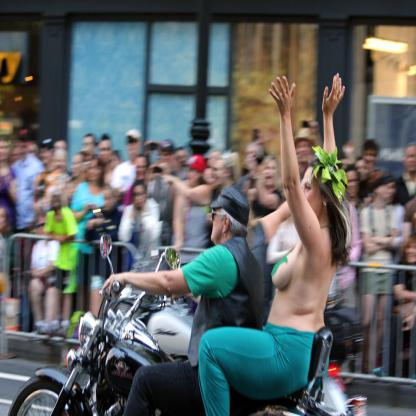face: (302, 167, 323, 220), (212, 207, 228, 243), (298, 139, 311, 165), (347, 173, 359, 198), (265, 163, 278, 186), (213, 163, 226, 185), (88, 161, 102, 180), (19, 140, 32, 160), (99, 142, 111, 163), (72, 157, 84, 178), (134, 189, 146, 209), (135, 159, 147, 179), (189, 166, 200, 187), (129, 137, 141, 155), (365, 149, 377, 166), (408, 147, 416, 172), (84, 139, 95, 157), (40, 148, 51, 166), (407, 242, 416, 263), (1, 142, 10, 161), (177, 152, 186, 168), (53, 196, 61, 213)
